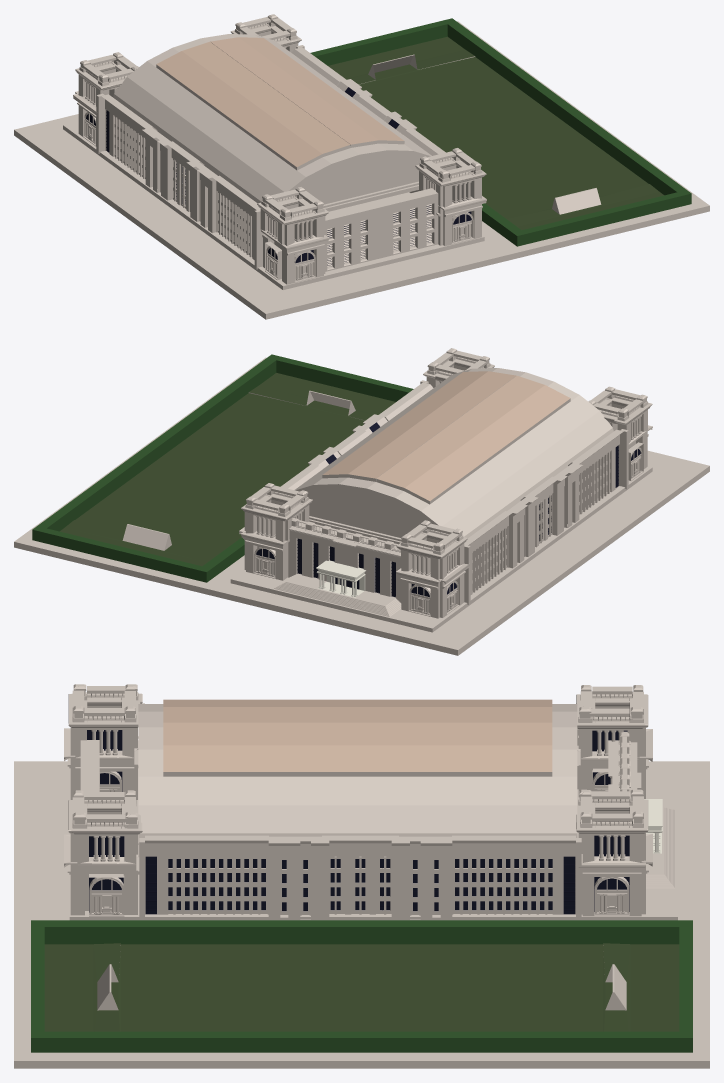
Rendered from Olympic_Pool.fbx.
3 views of the same model, one above another, from view 1: azimuth 30°, elevation 25°; view 2: azimuth 150°, elevation 25°; view 3: azimuth 270°, elevation 25° (orthographic). The views are drawn at different scales.
Visible parts, largest first — view 1: Base, Main, Field, roof, roof.001; view 2: Base, Main, Field, roof, roof.001, front; view 3: Base, Main, Field, roof, roof.001, front.
Boxes of the visible parts, <box> form: Base: <box>14,18,709,319</box>; Main: <box>73,14,486,284</box>; Field: <box>328,36,664,229</box>; roof: <box>113,34,431,211</box>; roof.001: <box>156,37,403,166</box>; Base: <box>14,354,709,655</box>; Main: <box>239,348,652,618</box>; Field: <box>60,373,395,566</box>; roof: <box>294,368,613,544</box>; roof.001: <box>323,371,570,500</box>; front: <box>316,560,366,597</box>; Base: <box>14,761,709,1068</box>; Main: <box>64,684,652,920</box>; Field: <box>44,943,679,1031</box>; roof: <box>138,704,577,857</box>; roof.001: <box>163,699,552,771</box>; front: <box>644,799,662,853</box>.
Size of the model in its own units: 11897 by 2600 by 11686.
